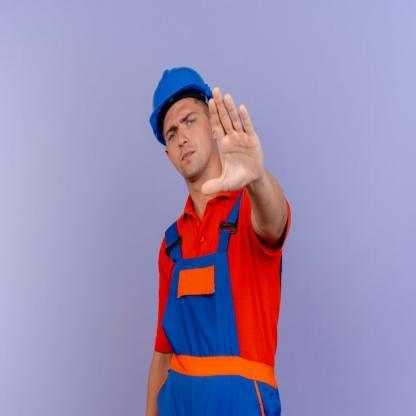stop: (194, 79, 268, 203)
